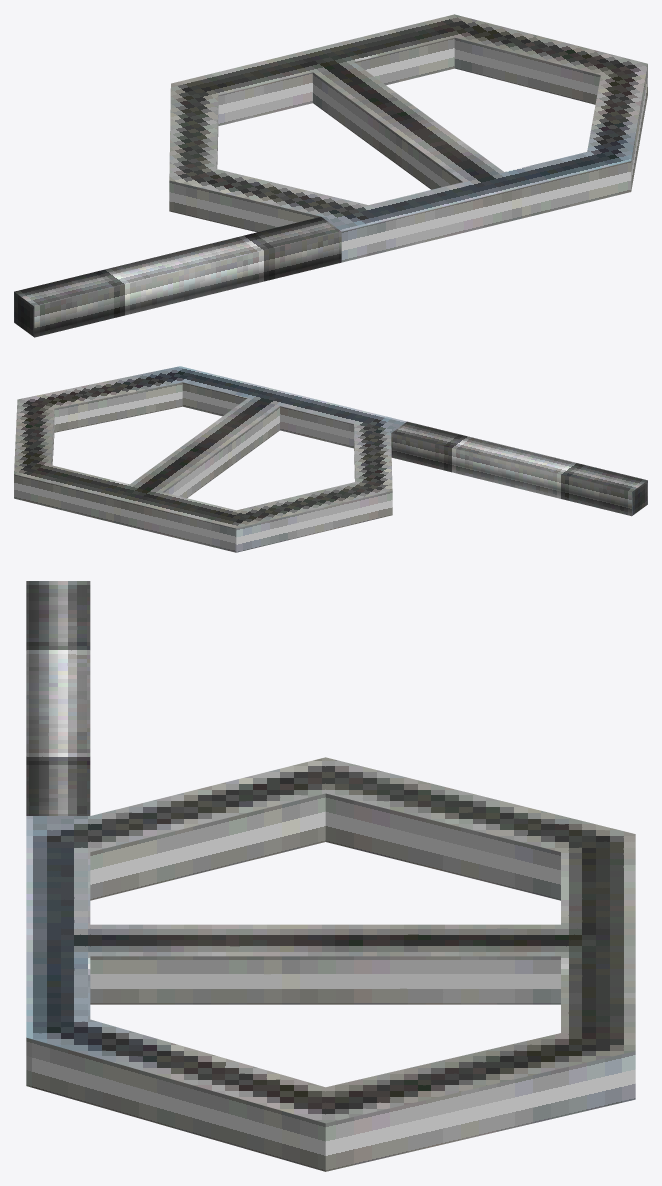
The picture shows the model from 3 angles, top to bottom: view 1: azimuth 30°, elevation 25°; view 2: azimuth 150°, elevation 25°; view 3: azimuth 270°, elevation 25°; orthographic projection. The views are drawn at different scales.
Visible parts, largest first — view 1: polySurface3; view 2: polySurface3; view 3: polySurface3.
Part boxes in pixels (box(x1,y1,x2,y2)): polySurface3: box(14, 14, 647, 337); polySurface3: box(14, 366, 647, 552); polySurface3: box(26, 581, 635, 1171).
Size of the model in its own units: 12 by 0.5001 by 5.7.
1 material, 1 textured.
